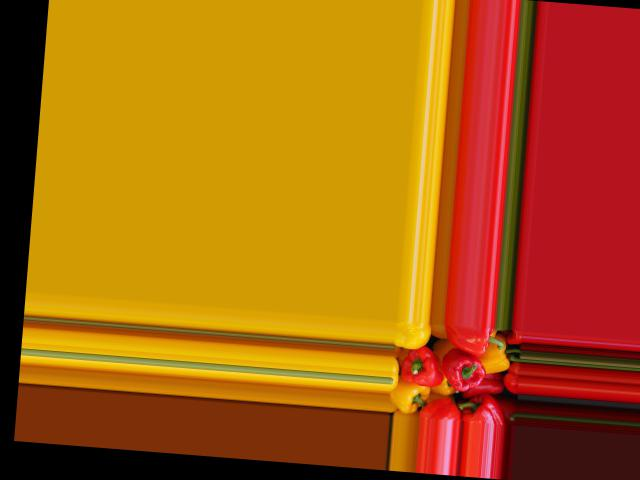bell_pepper: (389, 377, 427, 411)
